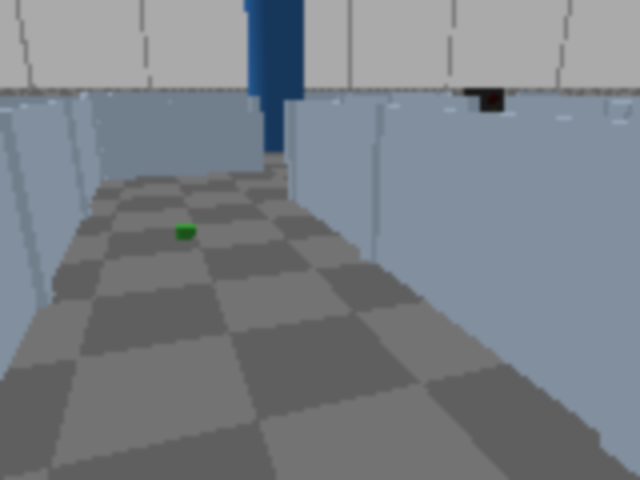puck: (174, 224, 195, 240)
